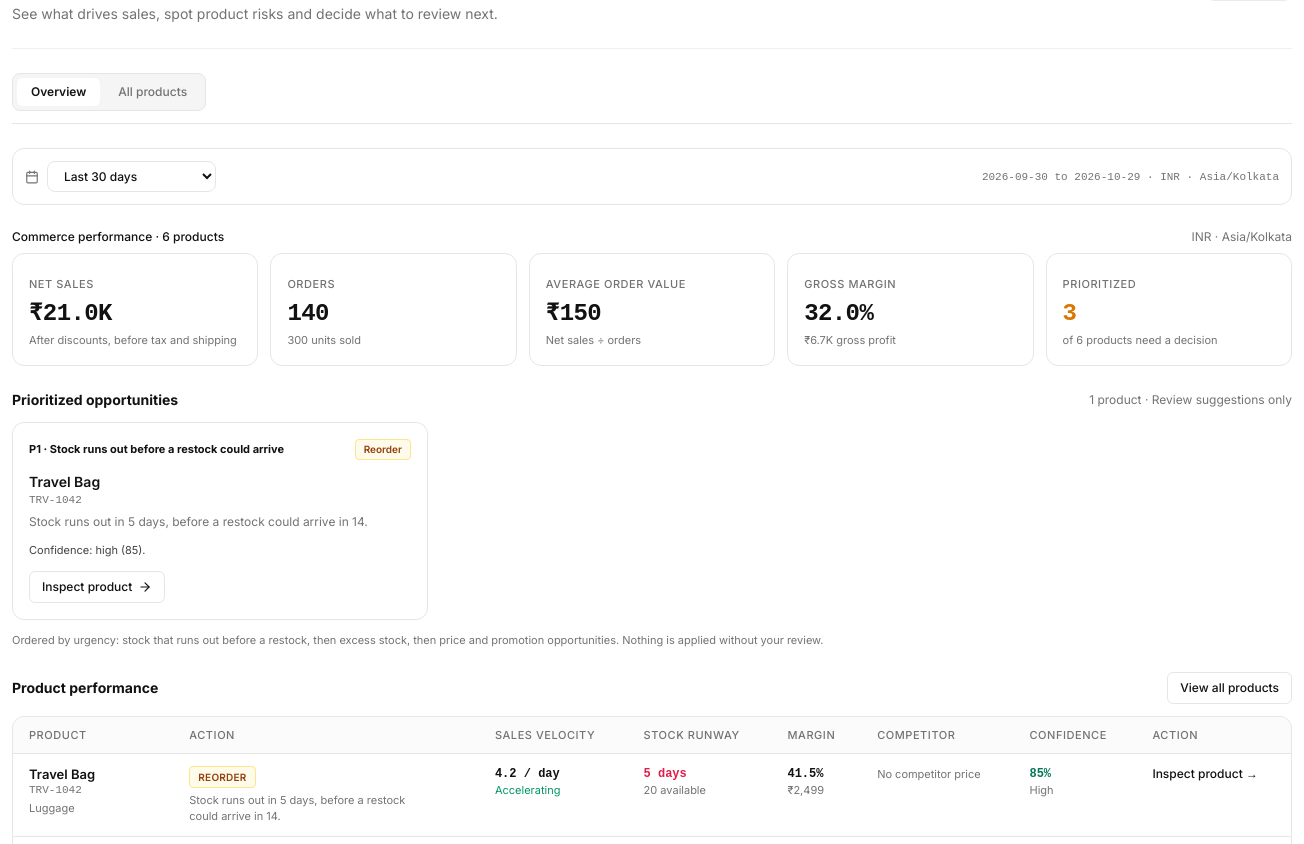
it: Product Intelligence overview on real data › the date range lives in the URL and goes to the server
expect the text "Net sales" is shown: met, box [29, 277, 94, 291]
Select "Last 90 days" in the dropdown named "Date range": (132, 176) [47, 161, 216, 192]
(page scrolled)
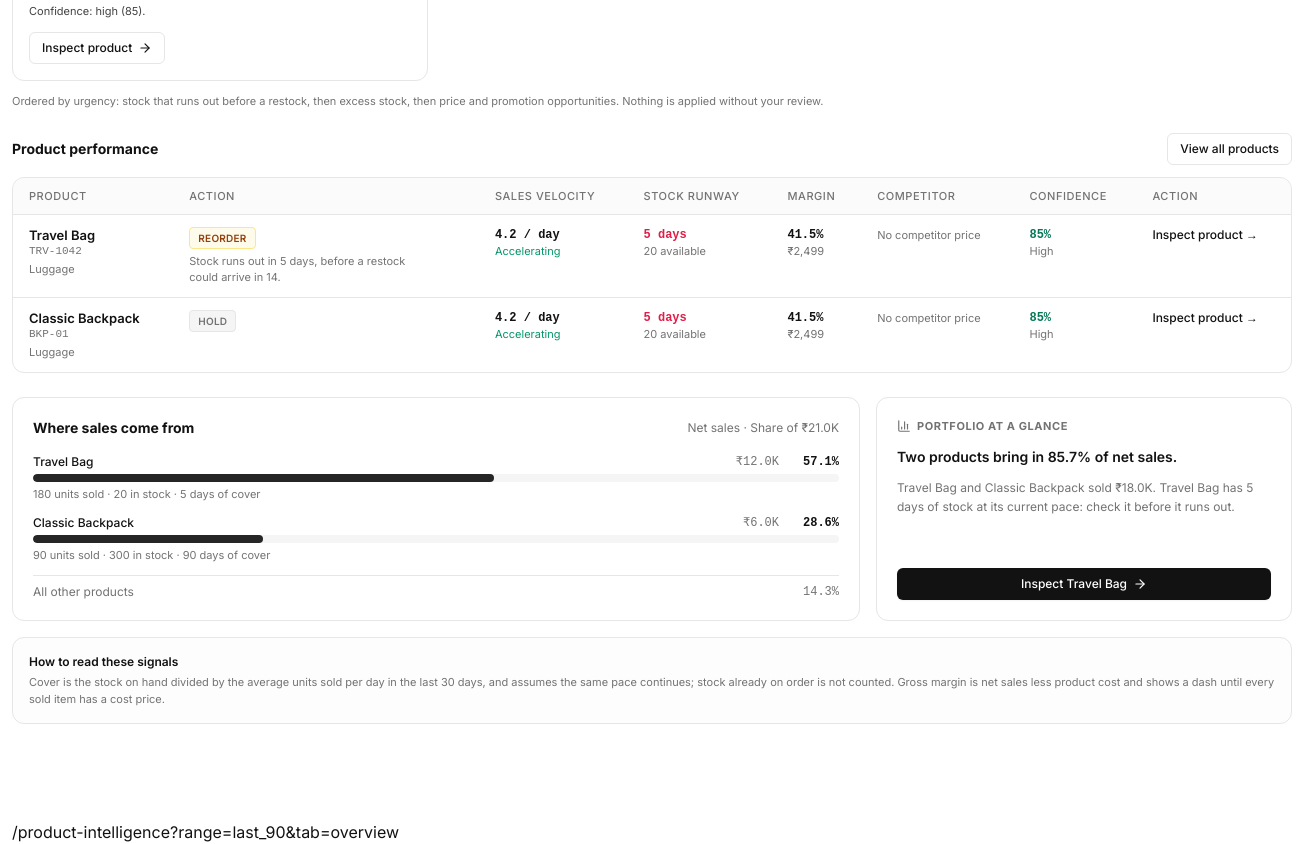
expect the text with test id "loc" shows "range=last_90": met, box [12, 822, 399, 842]
